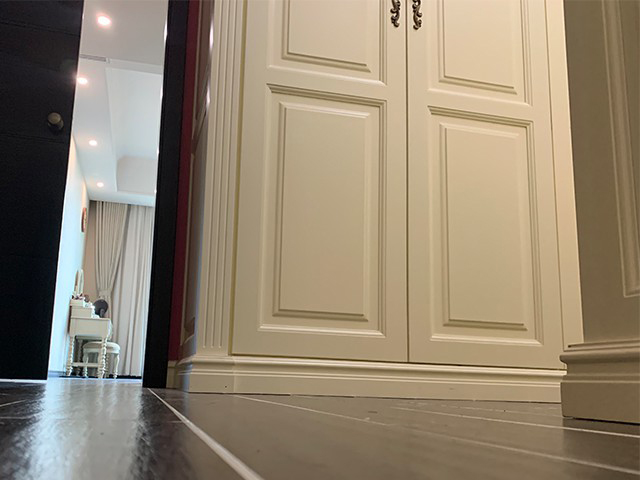cabinet: (174, 1, 584, 399)
curtain: (94, 200, 154, 377)
stool: (81, 340, 121, 380)
table: (65, 268, 113, 379)
